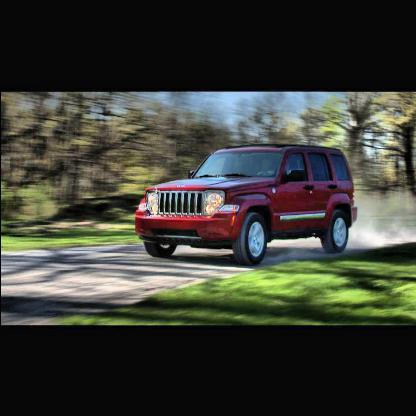Jeep Liberty SUV 2012: (133, 143, 361, 269)
